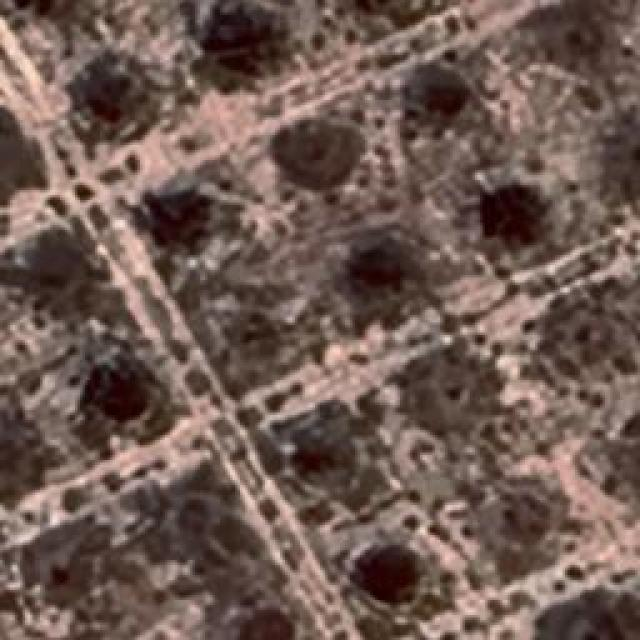PalmTree: (69, 66, 515, 213), (212, 0, 300, 70), (147, 178, 220, 256), (355, 542, 428, 612), (280, 118, 346, 188), (88, 361, 156, 425), (347, 232, 417, 294), (408, 55, 471, 119), (597, 114, 640, 204), (0, 411, 41, 498)
